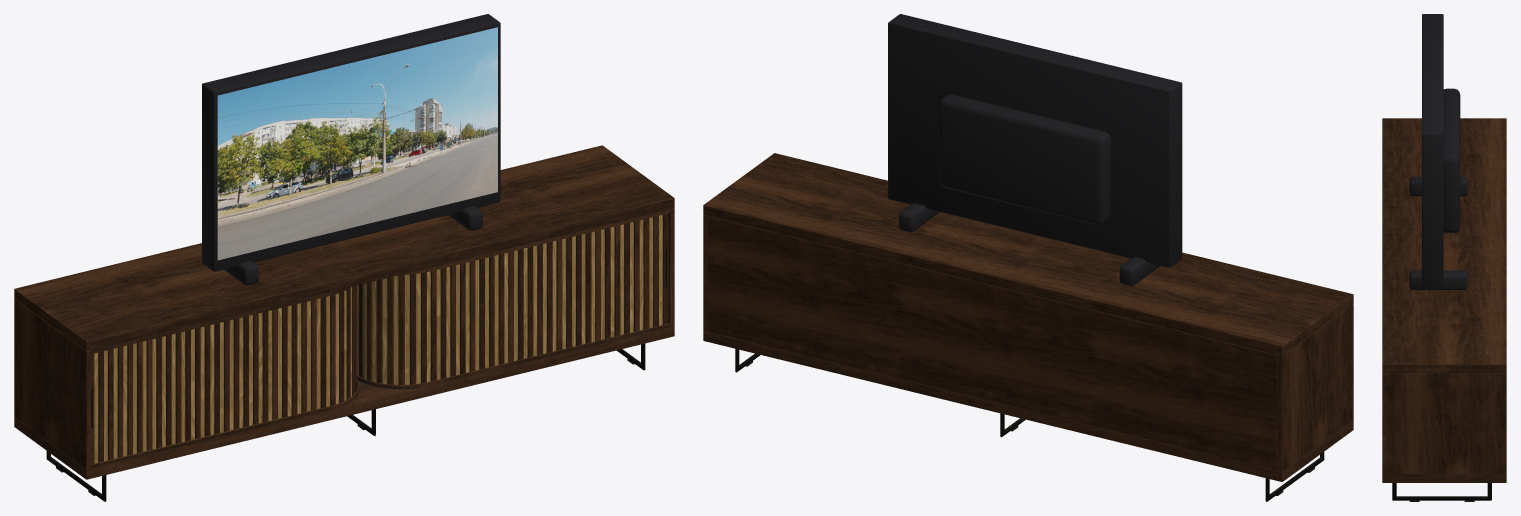
The picture shows the model from 3 angles, left to right: view 1: azimuth 30°, elevation 25°; view 2: azimuth 150°, elevation 25°; view 3: azimuth 270°, elevation 25°; orthographic projection. The views are drawn at different scales.
Parts seen in each view (by area): view 1: modern_wooden_cabinet_body, screen, panel; view 2: modern_wooden_cabinet_body, panel, back, foot, foot.001; view 3: modern_wooden_cabinet_body, panel, back, foot.001, foot.
Boxes of the visible parts, left/top/right/bottom form: modern_wooden_cabinet_body: left=14, top=145, right=674, bottom=501; screen: left=217, top=27, right=497, bottom=260; panel: left=202, top=14, right=500, bottom=271; modern_wooden_cabinet_body: left=703, top=153, right=1353, bottom=501; panel: left=888, top=14, right=1182, bottom=267; back: left=939, top=94, right=1110, bottom=225; foot: left=1119, top=257, right=1160, bottom=285; foot.001: left=899, top=203, right=939, bottom=232; modern_wooden_cabinet_body: left=1382, top=118, right=1506, bottom=501; panel: left=1422, top=14, right=1443, bottom=287; back: left=1443, top=88, right=1460, bottom=232; foot.001: left=1409, top=270, right=1467, bottom=289; foot: left=1409, top=176, right=1467, bottom=196.
Size of the model in its own units: 1.77 by 1.05 by 0.3771.
Materials: 3 (2 with a texture image).
